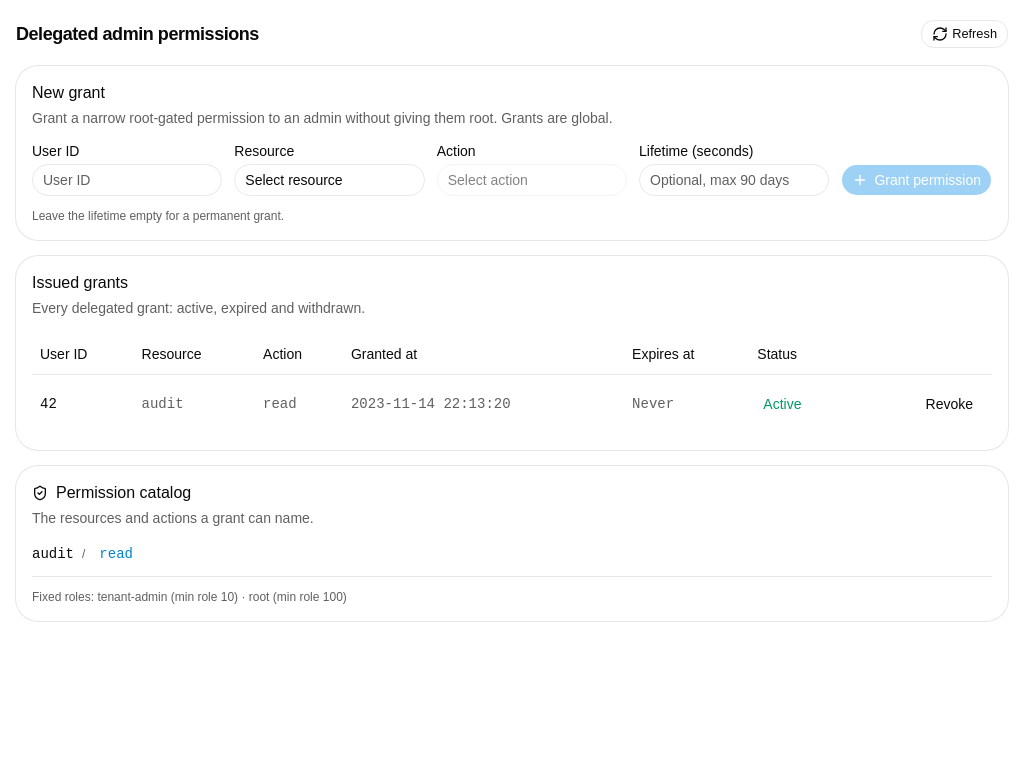
Test: read failures are never shown as an empty list › a refresh that fails after a good load replaces the stale list with the error
Expected: the row with test id "authz-row-1" is shown, [32,374,992,434]
Step 1. Click the button "Refresh" → point(965, 34), box [921,20,1008,48]
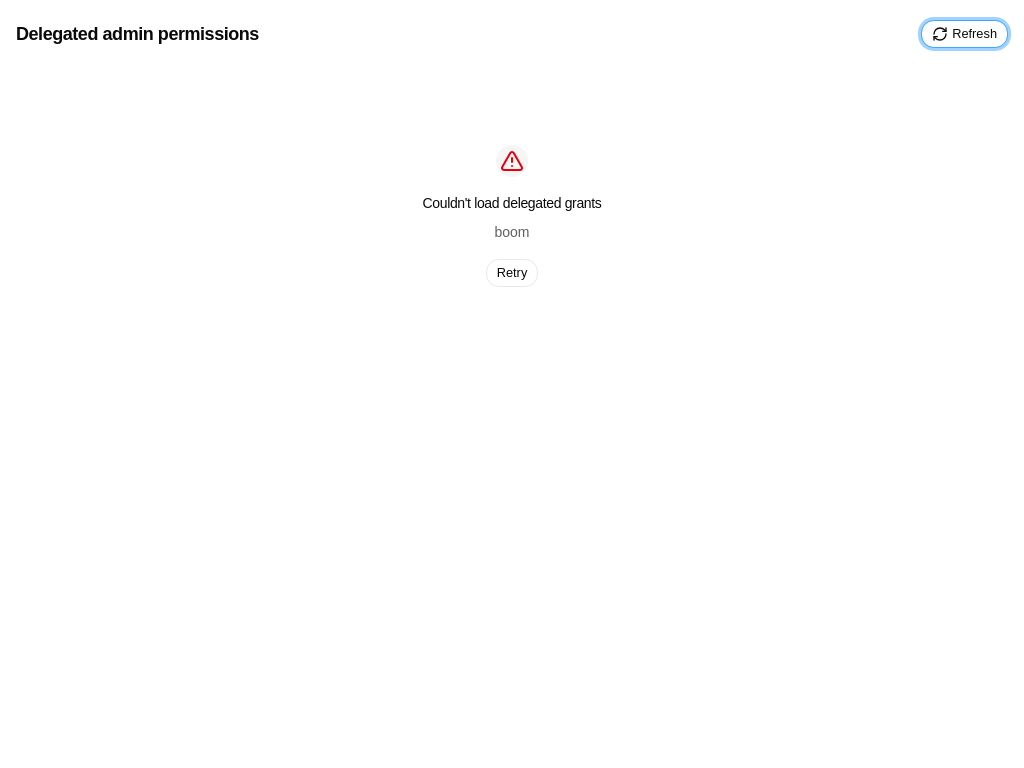
Result: the element with test id "authz-load-error" is shown at [422,145,602,287]
Result: the row with test id "authz-row-1" is gone
